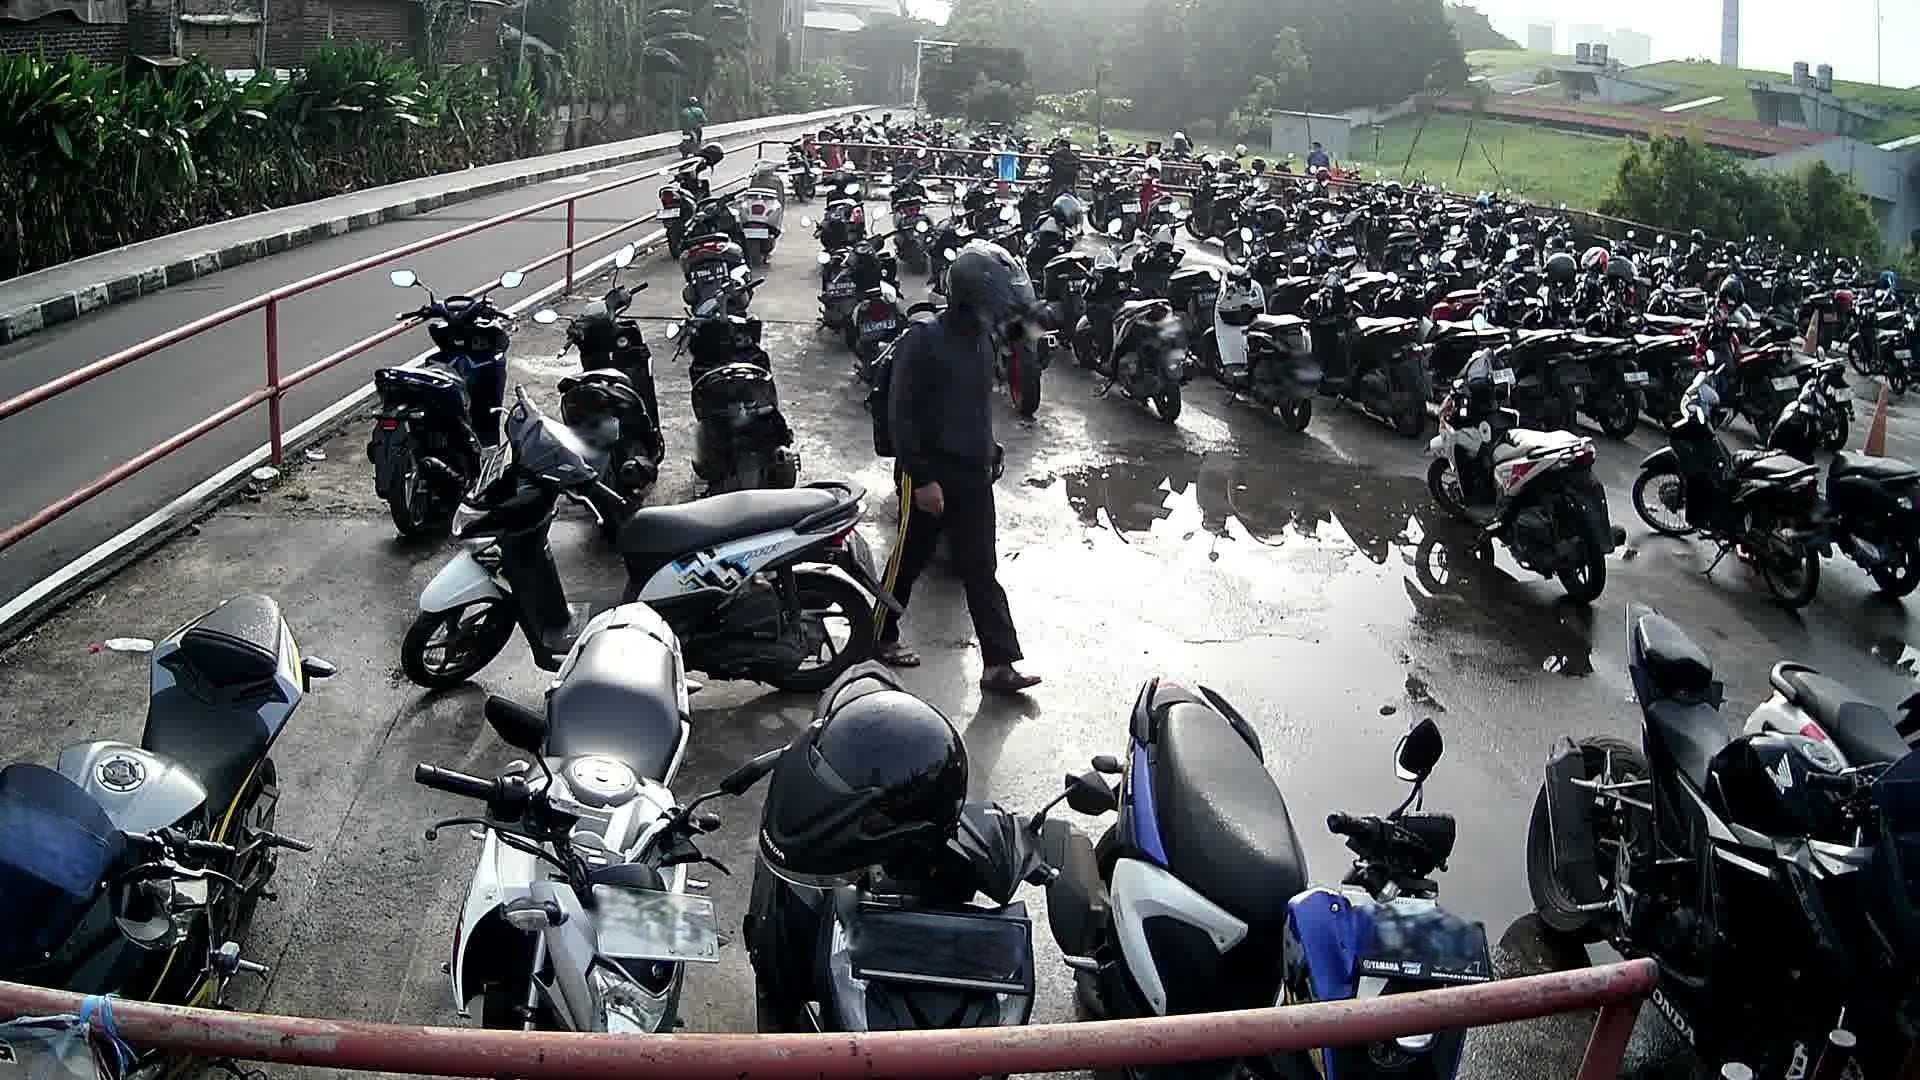motorcycle: (400, 386, 895, 695), (1051, 674, 1503, 996), (417, 604, 753, 1035), (1524, 596, 1920, 952), (0, 585, 339, 989), (745, 659, 1069, 1027), (1425, 332, 1633, 604), (1638, 356, 1825, 605), (363, 265, 526, 547), (533, 245, 667, 501), (1774, 371, 1920, 600), (666, 264, 811, 488), (1743, 661, 1920, 798)
